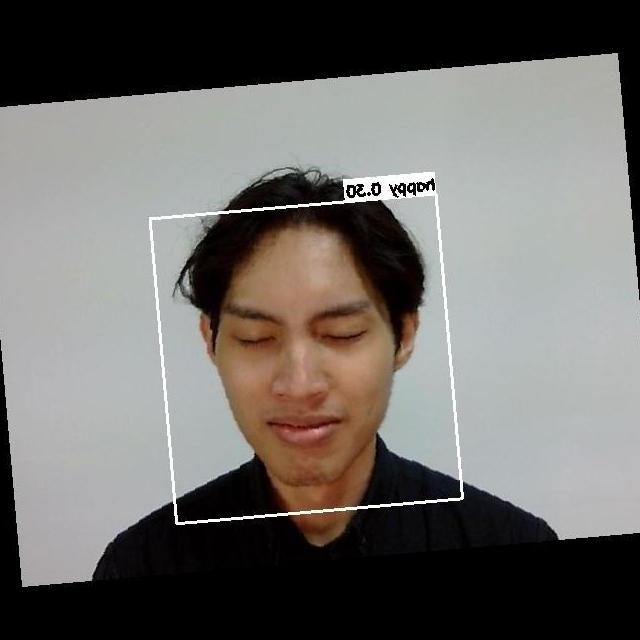Sad: (203, 281, 401, 454)
